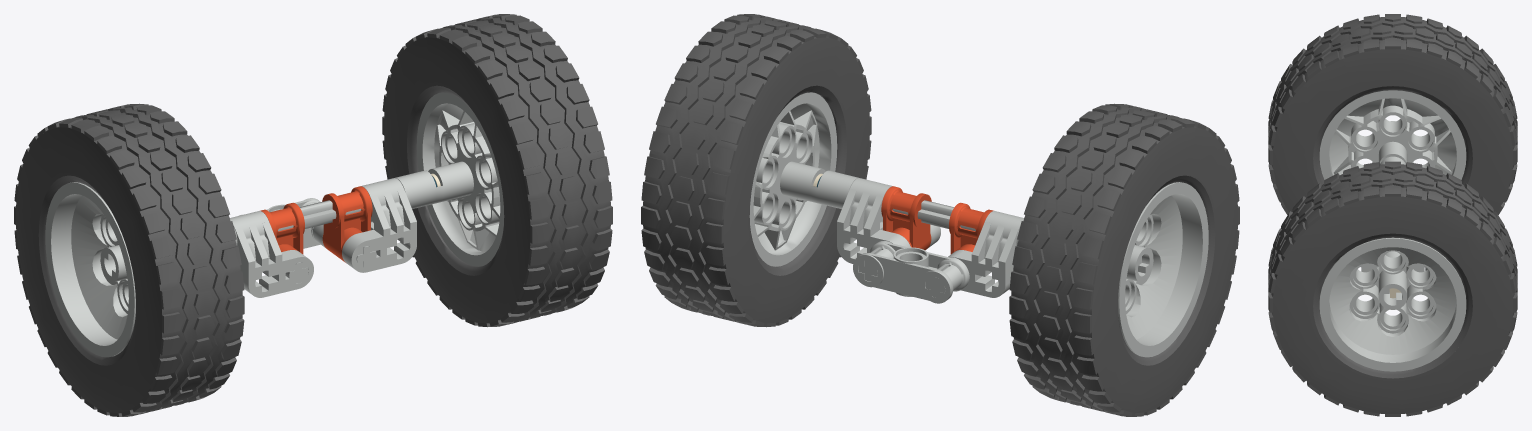
The model's file is wheels.gltf.
3 views of the same model, side by side, from view 1: azimuth 30°, elevation 25°; view 2: azimuth 150°, elevation 25°; view 3: azimuth 270°, elevation 25° (orthographic). The views are drawn at different scales.
Parts seen in each view (by area): view 1: Base.002; view 2: Base.002; view 3: Base.002.
Boxes of the visible parts, x1=… form: Base.002: x1=14, y1=14, x2=612, y2=416; Base.002: x1=641, y1=14, x2=1239, y2=416; Base.002: x1=1268, y1=14, x2=1517, y2=416.
Bounding box in the file's own units: 36.19 × 21.05 × 21.05.
